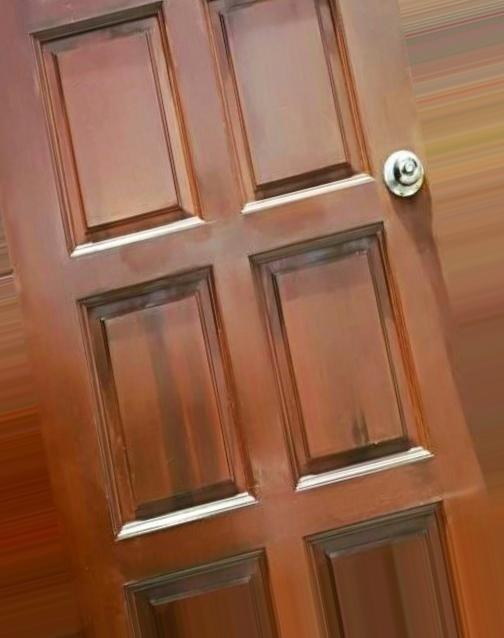door: (0, 0, 475, 638)
